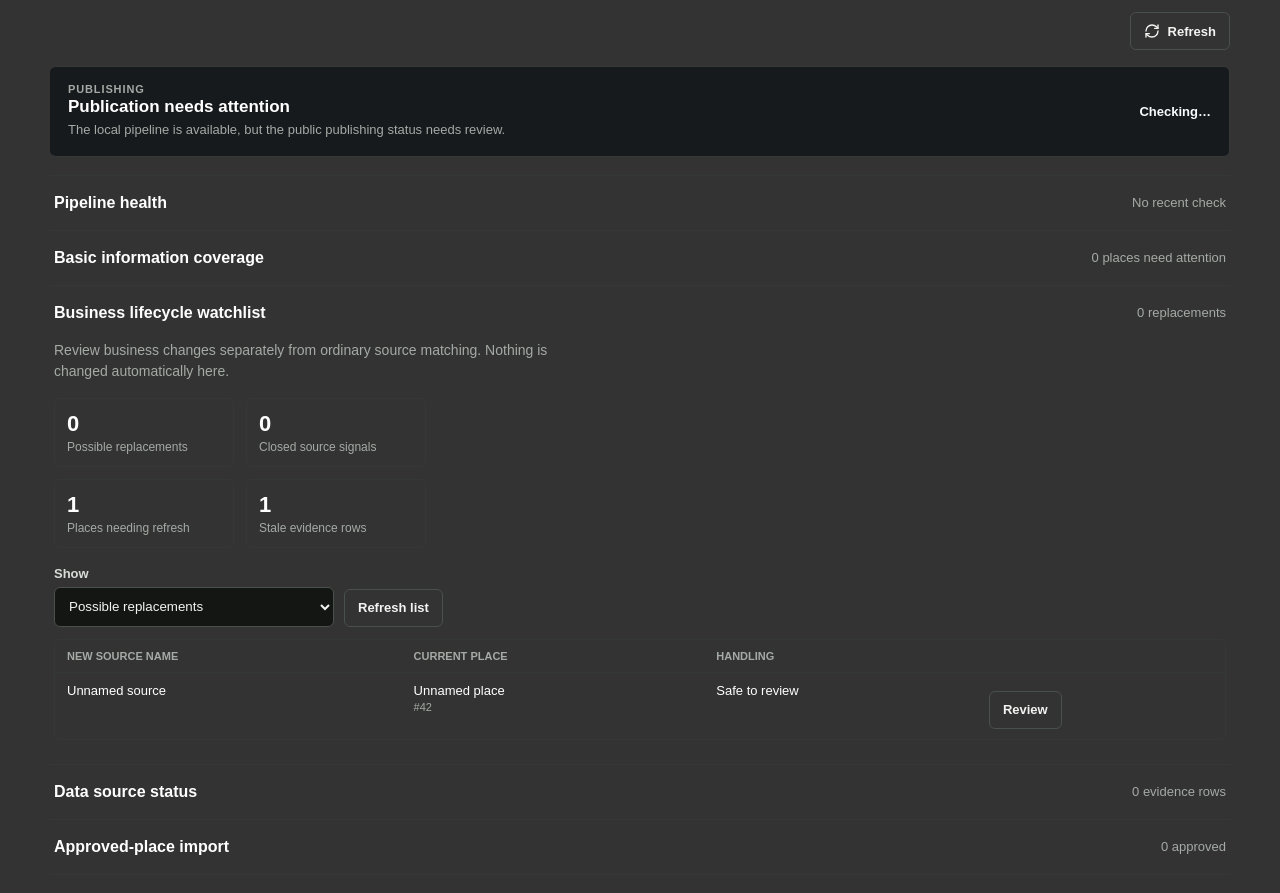
Test: AdminSystemPanel lifecycle actions › does not turn stale evidence into a closure decision
This screenshot has width=1280, height=893.
Step 1. Select "Stale listings" in the dropdown → (194, 607), box x1=54 y1=587 x2=334 y2=627
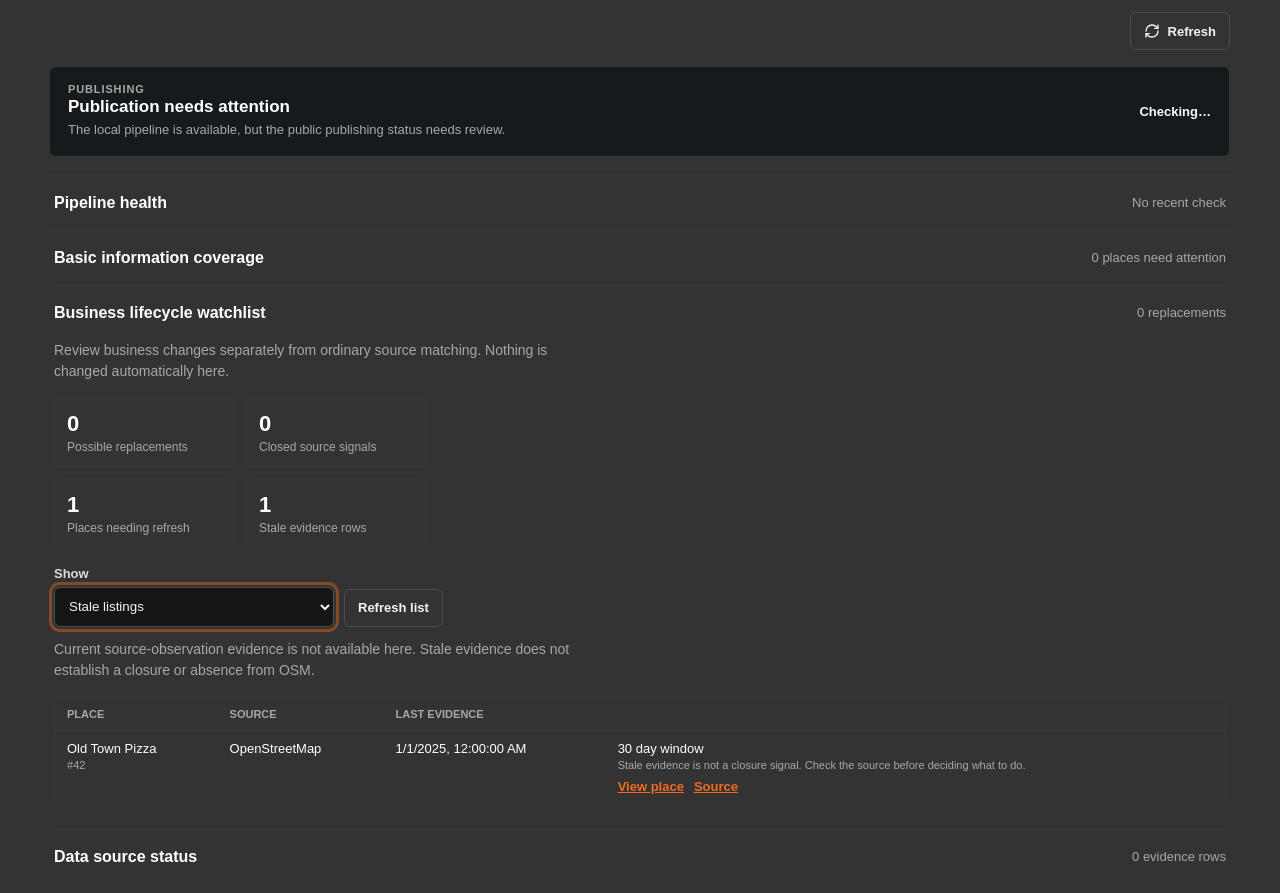
Check: the text "Old Town Pizza" is shown, box x1=67 y1=741 x2=156 y2=756
Check: the text "Stale evidence does not establish a closure or absence from OSM" is shown, box x1=54 y1=641 x2=569 y2=678
